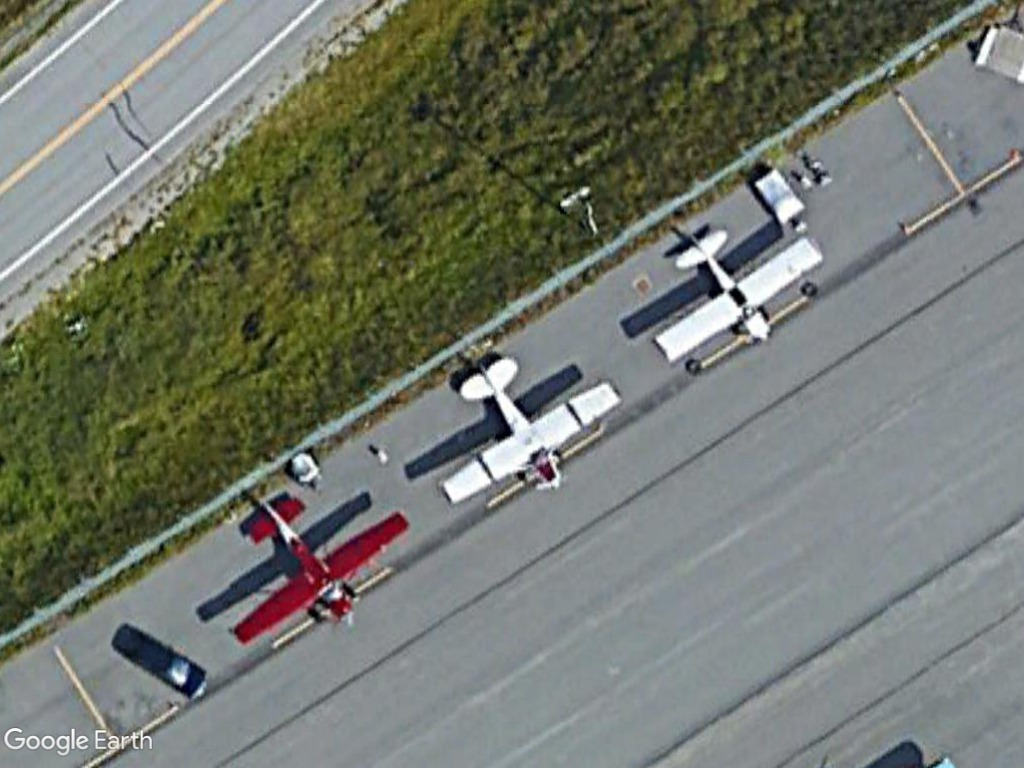trainer: (434, 353, 623, 517), (231, 488, 409, 657), (653, 225, 828, 372)
